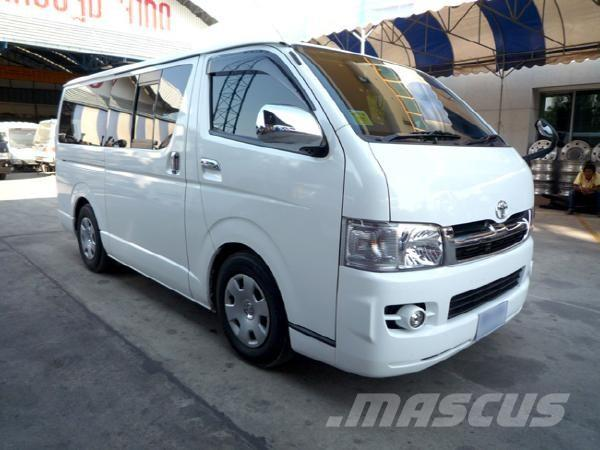van: (51, 35, 535, 381)
